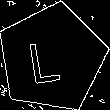L_N: (33, 31, 71, 85)
